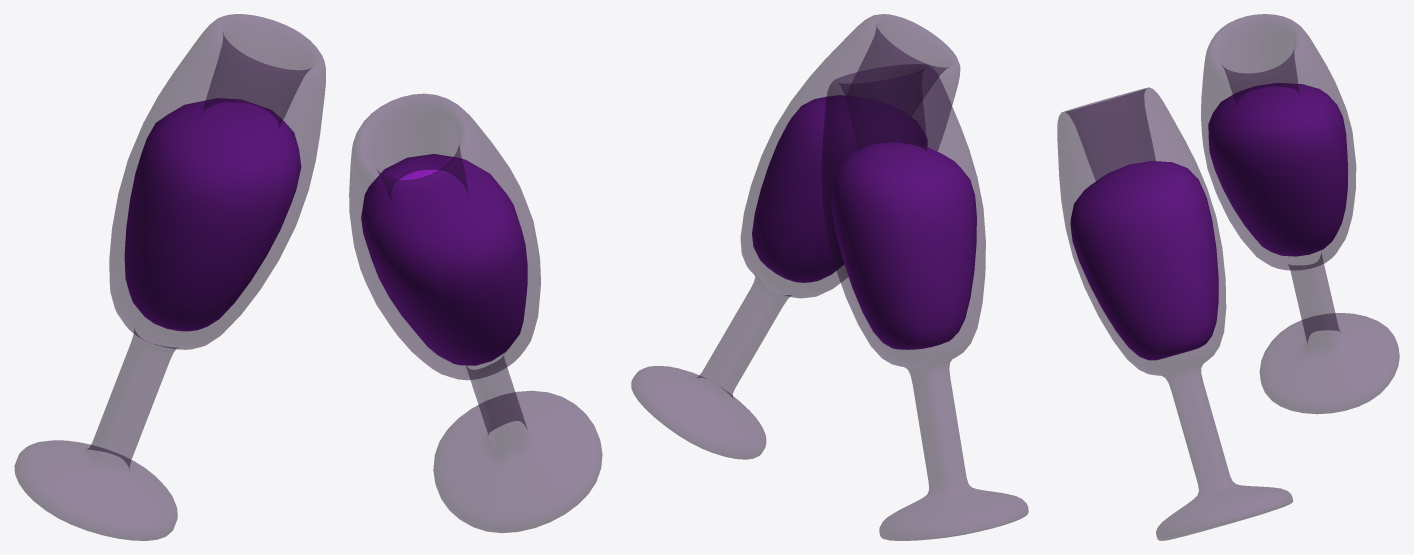
The model's file is champagne.gltf.
The picture shows the model from 3 angles, left to right: view 1: azimuth 30°, elevation 25°; view 2: azimuth 150°, elevation 25°; view 3: azimuth 270°, elevation 25°; orthographic projection. The views are drawn at different scales.
Visible parts, largest first — view 1: Cube 3 (×2), Cube, Cube 4; view 2: Cube 3 (×2), Cube, Cube 4; view 3: Cube 3 (×2), Cube 4, Cube.
Part boxes in pixels (bbox=[...]): Cube 3 (×2): bbox=[14, 14, 602, 540]; Cube: bbox=[124, 98, 301, 331]; Cube 4: bbox=[361, 154, 527, 365]; Cube 3 (×2): bbox=[631, 14, 1028, 540]; Cube: bbox=[831, 142, 976, 349]; Cube 4: bbox=[752, 95, 927, 282]; Cube 3 (×2): bbox=[1057, 14, 1399, 540]; Cube 4: bbox=[1070, 161, 1218, 360]; Cube: bbox=[1208, 83, 1347, 256].
Size of the model in its own units: 1.47 by 1.46 by 1.06.
